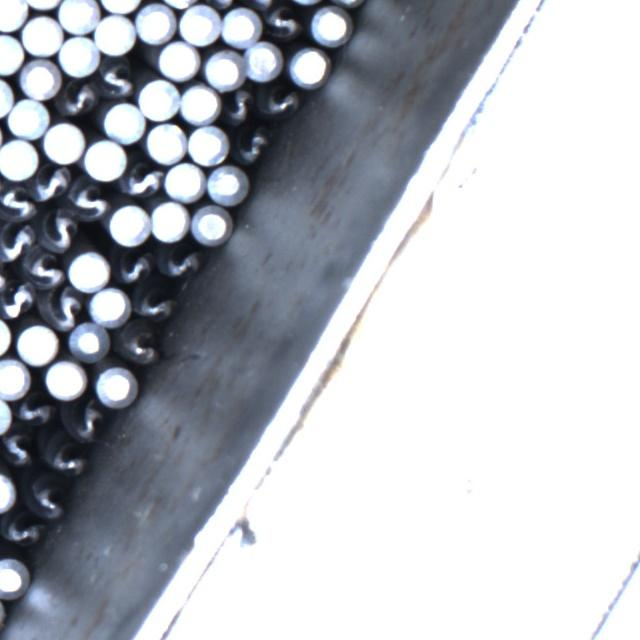tool: (90, 13, 138, 56), (54, 33, 98, 78), (135, 76, 180, 119), (83, 138, 127, 181), (42, 358, 87, 399), (157, 38, 200, 80), (144, 121, 186, 164), (178, 2, 221, 44), (16, 321, 58, 363), (92, 364, 134, 406), (42, 120, 84, 162), (107, 203, 149, 245), (102, 101, 144, 143), (66, 249, 108, 291), (163, 160, 204, 203), (67, 320, 109, 361), (287, 45, 329, 86), (148, 199, 188, 242), (6, 97, 47, 138), (242, 41, 283, 82), (186, 124, 228, 164), (87, 285, 129, 325), (178, 83, 219, 123), (206, 163, 246, 204), (202, 49, 242, 89), (220, 6, 260, 46), (307, 5, 348, 44), (0, 136, 36, 180), (190, 204, 229, 244), (19, 58, 58, 98), (55, 0, 100, 32), (0, 356, 32, 399), (0, 558, 28, 598), (0, 0, 26, 29)
tool_b: (118, 162, 166, 202), (264, 3, 309, 41), (117, 326, 159, 366), (98, 59, 137, 102), (44, 439, 87, 478), (66, 181, 107, 220), (46, 291, 84, 333), (27, 480, 65, 522), (260, 85, 303, 122), (42, 210, 77, 255), (28, 163, 68, 202), (55, 81, 96, 118), (0, 513, 42, 549), (236, 126, 275, 164), (0, 226, 36, 267), (158, 248, 203, 280), (0, 183, 35, 224), (27, 251, 67, 286), (120, 247, 154, 288), (68, 406, 107, 441), (0, 430, 36, 467), (0, 281, 32, 321), (224, 86, 257, 123), (16, 392, 53, 425), (132, 289, 174, 317)
